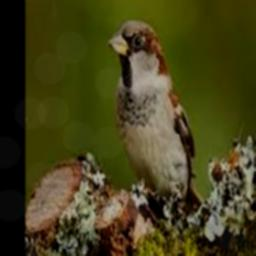Sparrow: (108, 21, 204, 216)
